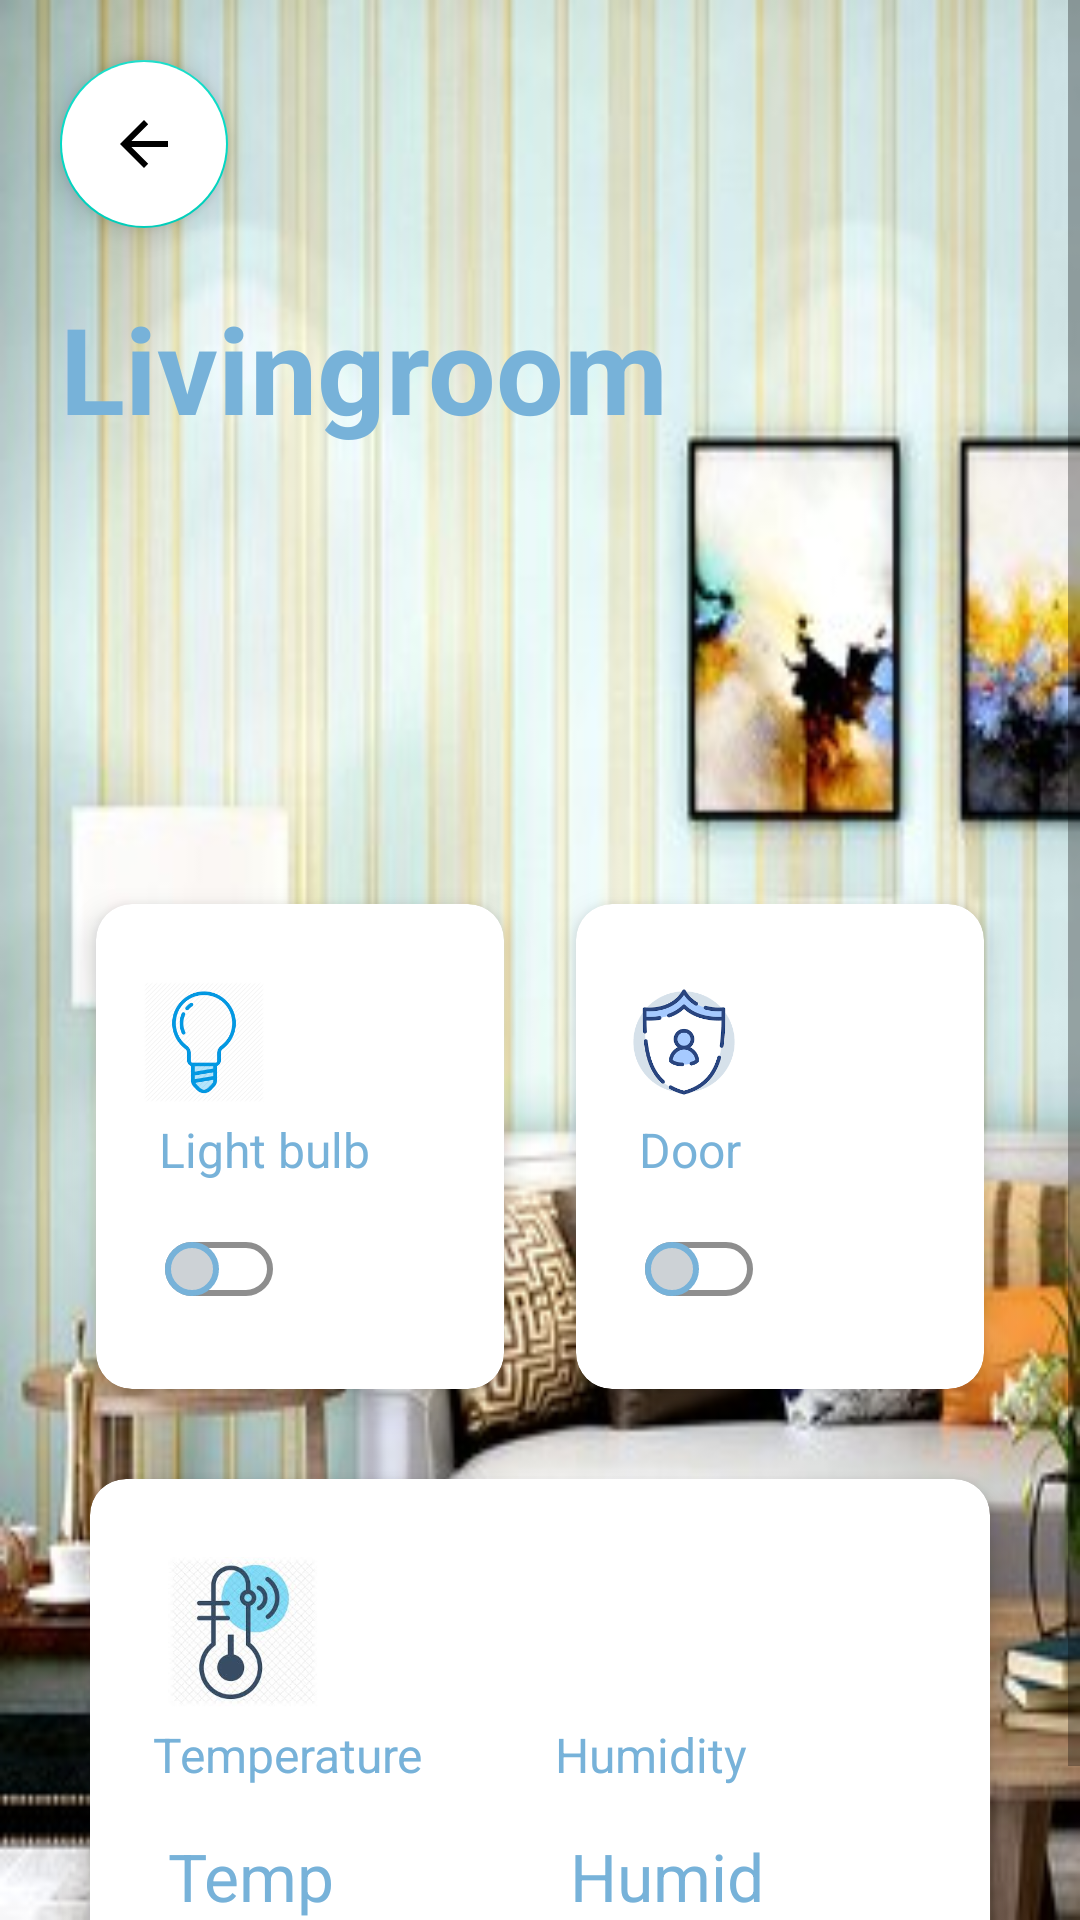

Named icons in this screenshot (1080 × 1920) and their bounding boxes, (x1, y1, x2, y2):
lighting: (172, 991, 236, 1094)
security: (634, 989, 734, 1095)
sensor: (181, 1563, 302, 1699)
